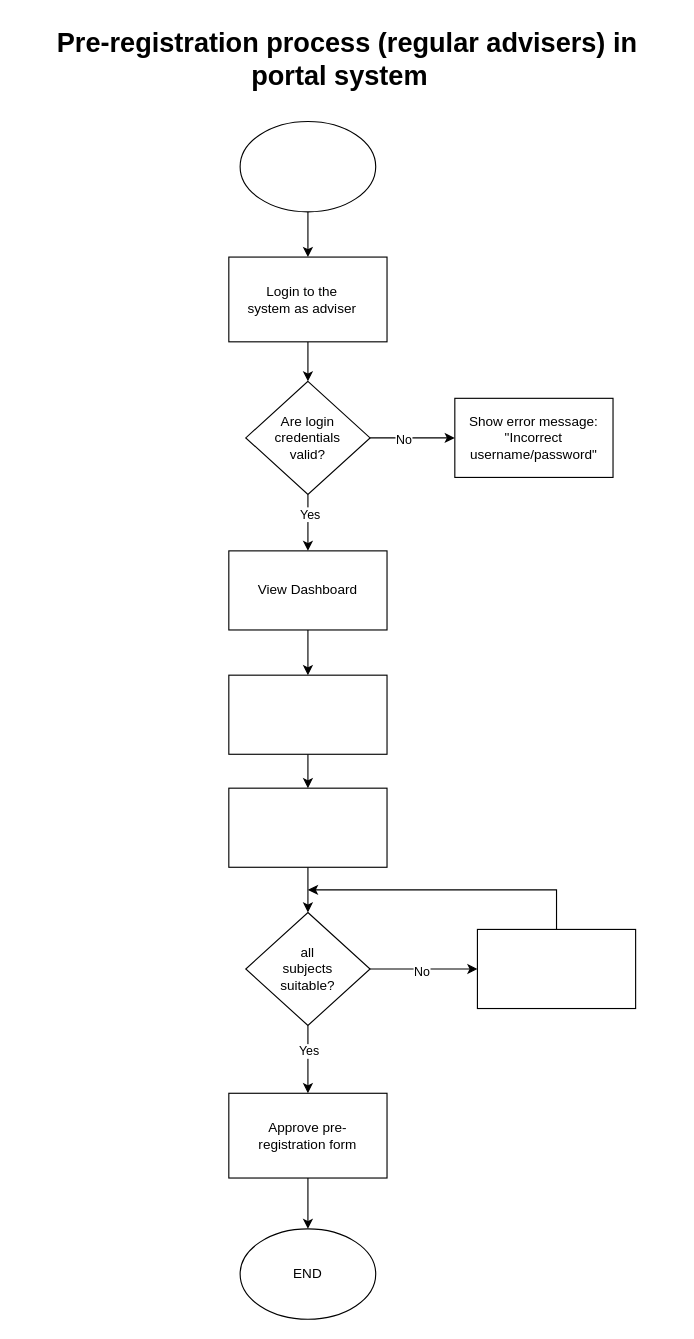
This 694x1339 diagram has some shape labels left out. The centre of each missing label's shape, as x and y in pixels:
"Remove or add subjects" belongs at [556,968].
"Review each pre-registration form" belongs at [307,827].
"START" belongs at [307,166].
"View students' pre-registration forms" belongs at [307,714].
